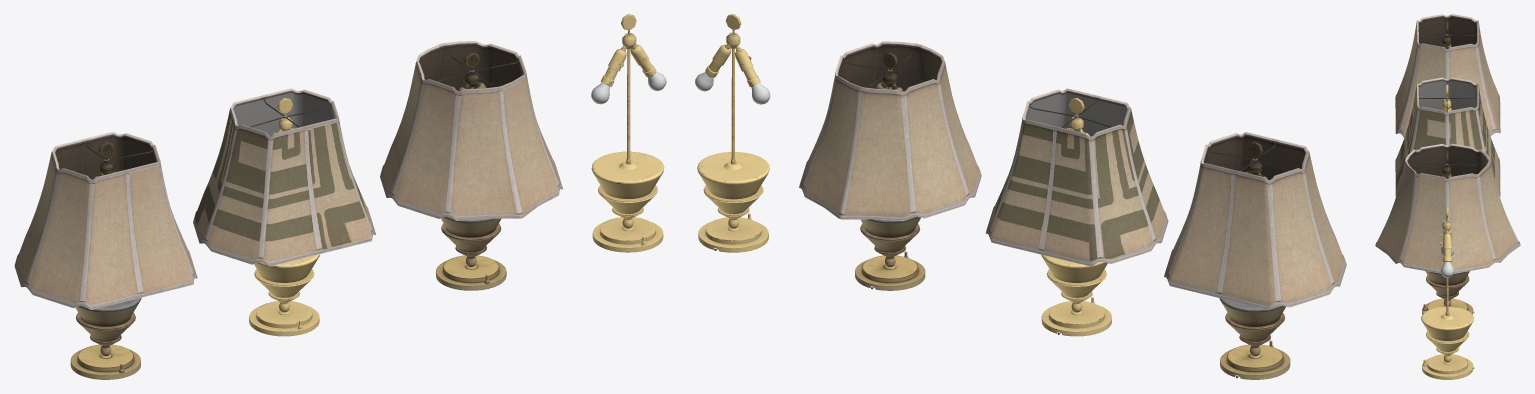
Rendered from table_lamp.glb.
The picture shows the model from 3 angles, left to right: view 1: azimuth 30°, elevation 25°; view 2: azimuth 150°, elevation 25°; view 3: azimuth 270°, elevation 25°; orthographic projection. The views are drawn at different scales.
Visible parts, largest first — view 1: 1920s Table Lamp Type C AltShade_0, 1920s Table Lamp Type C Painted Gold_2, 1920s Table Lamp Type C Standard_1, 1920s Table Lamp Type C No Shade_3; view 2: 1920s Table Lamp Type C AltShade_0, 1920s Table Lamp Type C Painted Gold_2, 1920s Table Lamp Type C Standard_1, 1920s Table Lamp Type C No Shade_3; view 3: 1920s Table Lamp Type C AltShade_0, 1920s Table Lamp Type C Standard_1, 1920s Table Lamp Type C Painted Gold_2, 1920s Table Lamp Type C No Shade_3.
Boxes of the visible parts, x1,y1,x2,y2 form: 1920s Table Lamp Type C AltShade_0: (380,41,562,290); 1920s Table Lamp Type C Painted Gold_2: (193,88,375,336); 1920s Table Lamp Type C Standard_1: (14,131,197,379); 1920s Table Lamp Type C No Shade_3: (591,14,666,252); 1920s Table Lamp Type C AltShade_0: (799,41,981,290); 1920s Table Lamp Type C Painted Gold_2: (985,88,1168,336); 1920s Table Lamp Type C Standard_1: (1164,132,1346,379); 1920s Table Lamp Type C No Shade_3: (695,14,770,252); 1920s Table Lamp Type C AltShade_0: (1375,143,1520,314); 1920s Table Lamp Type C Standard_1: (1395,14,1500,137); 1920s Table Lamp Type C Painted Gold_2: (1395,77,1500,196); 1920s Table Lamp Type C No Shade_3: (1421,206,1474,379).
Size of the model in its own units: 1.71 by 0.5716 by 0.4637.
2 materials, 2 textured.
